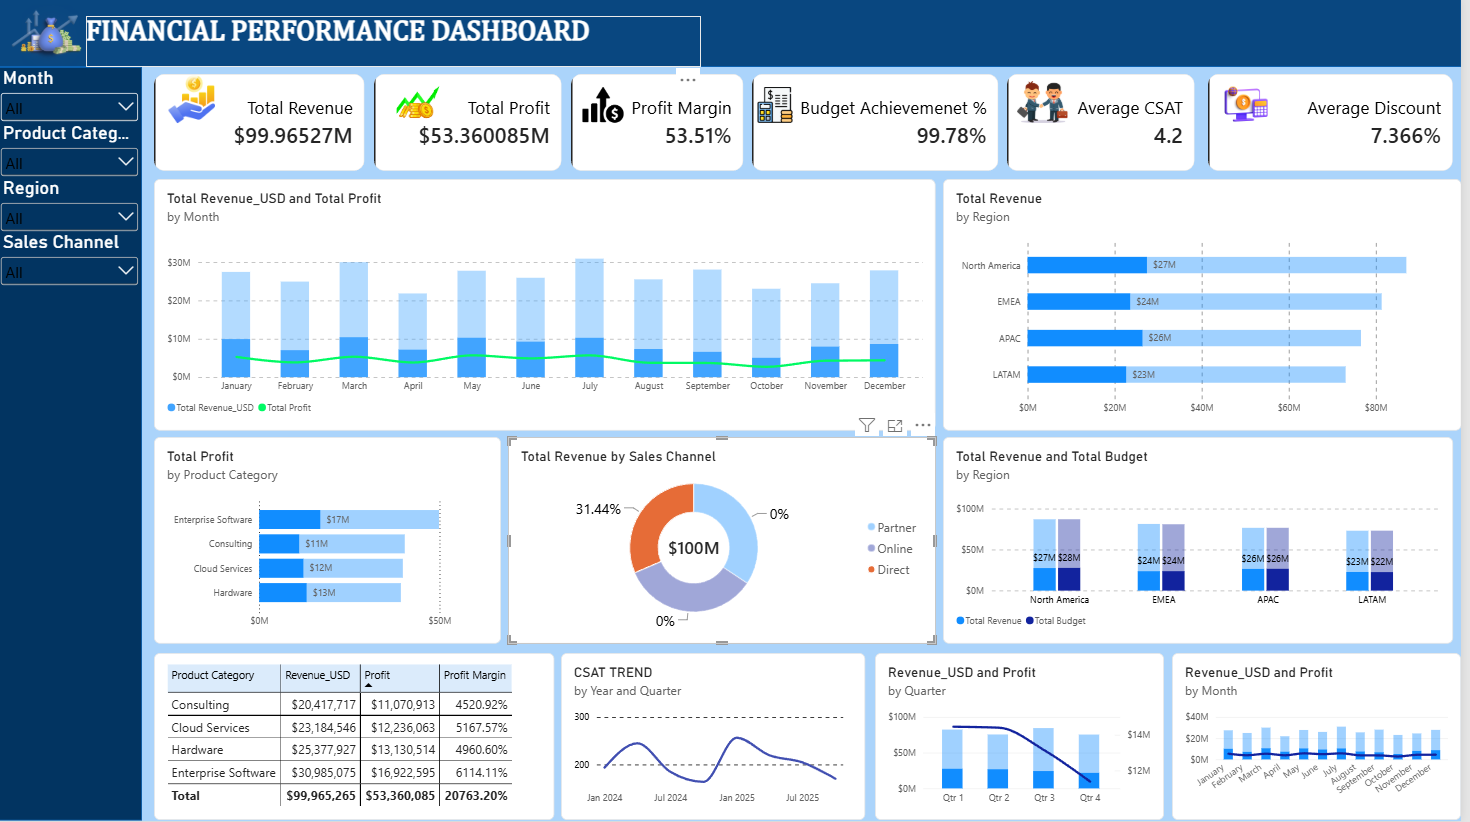

This screenshot's page, from the dashboard's own definition file:
{"tool":"powerbi","page":{"name":"Page 1","canvas":[1920,1080],"ordinal":0},"visuals":[{"type":"cardVisual","fields":{"Data":["global_finance_sales_dataset_1200_rows.Total Revenue"]},"box":[206.2,101.1,276.7,127.7],"z":0},{"type":"cardVisual","fields":{"Data":["global_finance_sales_dataset_1200_rows.Total Profit"]},"box":[494.8,101.1,246.1,127.7],"z":1000},{"type":"cardVisual","fields":{"Data":["Avg(global_finance_sales_dataset_1200_rows.Profit Margin)"]},"box":[752.8,101.1,226.1,127.7],"z":2000},{"type":"cardVisual","fields":{"Data":["global_finance_sales_dataset_1200_rows.Average Discount"]},"box":[1588.1,101.1,321.9,127.7],"z":3000},{"type":"cardVisual","fields":{"Data":["global_finance_sales_dataset_1200_rows.Budget Achievemenet %"]},"box":[989.6,101.1,323.2,127.7],"z":4000},{"type":"cardVisual","fields":{"Data":["global_finance_sales_dataset_1200_rows.Average CSAT"]},"box":[1324.7,101.1,246.1,127.7],"z":5000},{"type":"shape","box":[0,91.8,190.2,988.2],"z":6000},{"type":"lineClusteredColumnComboChart","fields":{"Category":["global_finance_sales_dataset_1200_rows.Date.Variation.Date Hierarchy.Month"],"Y":["Sum(global_finance_sales_dataset_1200_rows.Revenue_USD)"],"Y2":["global_finance_sales_dataset_1200_rows.Total Profit"]},"box":[206.2,238.1,1025.5,329.9],"z":7000},{"type":"clusteredBarChart","fields":{"Category":["global_finance_sales_dataset_1200_rows.Region"],"Y":["global_finance_sales_dataset_1200_rows.Total Revenue"]},"box":[1240.9,238.1,679.7,329.9],"z":8000},{"type":"barChart","fields":{"Category":["global_finance_sales_dataset_1200_rows.Product Category"],"Y":["global_finance_sales_dataset_1200_rows.Total Profit"]},"box":[206.2,577.2,454.9,271.3],"z":9000},{"type":"donutChart","fields":{"Category":["global_finance_sales_dataset_1200_rows.Sales Channel"],"Y":["global_finance_sales_dataset_1200_rows.Total Revenue"]},"box":[670.3,577.2,561.3,271.3],"z":10000},{"type":"clusteredColumnChart","fields":{"Category":["global_finance_sales_dataset_1200_rows.Region"],"Y":["global_finance_sales_dataset_1200_rows.Total Revenue","global_finance_sales_dataset_1200_rows.Total Budget"]},"box":[1240.9,577.2,669,271.3],"z":11000},{"type":"tableEx","fields":{"Values":["global_finance_sales_dataset_1200_rows.Product Category","Sum(global_finance_sales_dataset_1200_rows.Revenue_USD)","Sum(global_finance_sales_dataset_1200_rows.Profit)","Sum(global_finance_sales_dataset_1200_rows.Profit Margin)"]},"box":[206.2,860.5,525.4,219.5],"z":12000},{"type":"lineChart","fields":{"Category":["global_finance_sales_dataset_1200_rows.Date.Variation.Date Hierarchy.Year","global_finance_sales_dataset_1200_rows.Date.Variation.Date Hierarchy.Quarter"],"Y":["Sum(global_finance_sales_dataset_1200_rows.CSAT)"]},"box":[739.5,860.5,399,219.5],"z":13000},{"type":"textbox","box":[1368,861,542,219],"z":14000},{"type":"shape","box":[0,0,1920.6,91.8],"z":16000},{"type":"textbox","box":[117,25.3,806,66.5],"z":17000},{"type":"slicer","fields":{"Values":["global_finance_sales_dataset_1200_rows.Region"]},"box":[0,235.4,190.2,71.8],"z":18000},{"type":"slicer","fields":{"Values":["global_finance_sales_dataset_1200_rows.Product Category"]},"box":[0,163.6,190.2,71.8],"z":19000},{"type":"slicer","fields":{"Values":["global_finance_sales_dataset_1200_rows.Date.Variation.Date Hierarchy.Month"]},"box":[0,91.8,190.2,71.8],"z":20000},{"type":"slicer","fields":{"Values":["global_finance_sales_dataset_1200_rows.Sales Channel"]},"box":[0,307.2,190.2,71.8],"z":21000},{"type":"image","box":[0,0,130.3,101.1],"z":22000},{"type":"image","box":[206.2,102.4,98.4,62.5],"z":23000},{"type":"image","box":[494.8,102.4,109.1,74.5],"z":24000},{"type":"image","box":[752.8,118.4,83.8,46.6],"z":25000},{"type":"image","box":[978.9,118.4,83.8,46.6],"z":26000},{"type":"image","box":[1326.1,110.4,90.4,54.5],"z":27000},{"type":"image","box":[1589.4,110.4,98.4,62.5],"z":28000},{"type":"lineClusteredColumnComboChart","fields":{"Category":["global_finance_sales_dataset_1200_rows.Date.Variation.Date Hierarchy.Month"],"Y":["Sum(global_finance_sales_dataset_1200_rows.Revenue_USD)"],"Y2":["Sum(global_finance_sales_dataset_1200_rows.Profit)"]},"box":[1541.5,860.5,379.1,219.5],"z":28001},{"type":"lineClusteredColumnComboChart","fields":{"Category":["global_finance_sales_dataset_1200_rows.Date.Variation.Date Hierarchy.Quarter"],"Y":["Sum(global_finance_sales_dataset_1200_rows.Revenue_USD)"],"Y2":["Sum(global_finance_sales_dataset_1200_rows.Profit)"]},"box":[1151.8,860.5,379.1,219.5],"z":28002}]}

Visuals, with their boxes in screenshot pixels (x1, y1, x2, y2), scaled from the page's 1920x1080 canvas onto the 1470x822 screenshot:
cardVisual - global_finance_sales_dataset_1200_rows.Total Revenue: (x1=158, y1=77, x2=370, y2=174)
cardVisual - global_finance_sales_dataset_1200_rows.Total Profit: (x1=379, y1=77, x2=567, y2=174)
cardVisual - Avg(global_finance_sales_dataset_1200_rows.Profit Margin): (x1=576, y1=77, x2=749, y2=174)
cardVisual - global_finance_sales_dataset_1200_rows.Average Discount: (x1=1216, y1=77, x2=1462, y2=174)
cardVisual - global_finance_sales_dataset_1200_rows.Budget Achievemenet %: (x1=758, y1=77, x2=1005, y2=174)
cardVisual - global_finance_sales_dataset_1200_rows.Average CSAT: (x1=1014, y1=77, x2=1203, y2=174)
shape: (x1=0, y1=70, x2=146, y2=821)
lineClusteredColumnComboChart - global_finance_sales_dataset_1200_rows.Date.Variation.Date Hierarchy.Month x Sum(global_finance_sales_dataset_1200_rows.Revenue_USD): (x1=158, y1=181, x2=943, y2=432)
clusteredBarChart - global_finance_sales_dataset_1200_rows.Region x global_finance_sales_dataset_1200_rows.Total Revenue: (x1=950, y1=181, x2=1469, y2=432)
barChart - global_finance_sales_dataset_1200_rows.Product Category x global_finance_sales_dataset_1200_rows.Total Profit: (x1=158, y1=439, x2=506, y2=646)
donutChart - global_finance_sales_dataset_1200_rows.Sales Channel x global_finance_sales_dataset_1200_rows.Total Revenue: (x1=513, y1=439, x2=943, y2=646)
clusteredColumnChart - global_finance_sales_dataset_1200_rows.Region x global_finance_sales_dataset_1200_rows.Total Revenue: (x1=950, y1=439, x2=1462, y2=646)
tableEx - global_finance_sales_dataset_1200_rows.Product Category x Sum(global_finance_sales_dataset_1200_rows.Revenue_USD): (x1=158, y1=655, x2=560, y2=821)
lineChart - global_finance_sales_dataset_1200_rows.Date.Variation.Date Hierarchy.Year x global_finance_sales_dataset_1200_rows.Date.Variation.Date Hierarchy.Quarter: (x1=566, y1=655, x2=872, y2=821)
textbox: (x1=1047, y1=655, x2=1462, y2=821)
shape: (x1=0, y1=0, x2=1469, y2=70)
textbox: (x1=90, y1=19, x2=707, y2=70)
slicer - global_finance_sales_dataset_1200_rows.Region: (x1=0, y1=179, x2=146, y2=234)
slicer - global_finance_sales_dataset_1200_rows.Product Category: (x1=0, y1=125, x2=146, y2=179)
slicer - global_finance_sales_dataset_1200_rows.Date.Variation.Date Hierarchy.Month: (x1=0, y1=70, x2=146, y2=125)
slicer - global_finance_sales_dataset_1200_rows.Sales Channel: (x1=0, y1=234, x2=146, y2=288)
image: (x1=0, y1=0, x2=100, y2=77)
image: (x1=158, y1=78, x2=233, y2=126)
image: (x1=379, y1=78, x2=462, y2=135)
image: (x1=576, y1=90, x2=641, y2=126)
image: (x1=749, y1=90, x2=814, y2=126)
image: (x1=1015, y1=84, x2=1085, y2=126)
image: (x1=1217, y1=84, x2=1292, y2=132)
lineClusteredColumnComboChart - global_finance_sales_dataset_1200_rows.Date.Variation.Date Hierarchy.Month x Sum(global_finance_sales_dataset_1200_rows.Revenue_USD): (x1=1180, y1=655, x2=1469, y2=821)
lineClusteredColumnComboChart - global_finance_sales_dataset_1200_rows.Date.Variation.Date Hierarchy.Quarter x Sum(global_finance_sales_dataset_1200_rows.Revenue_USD): (x1=882, y1=655, x2=1172, y2=821)
